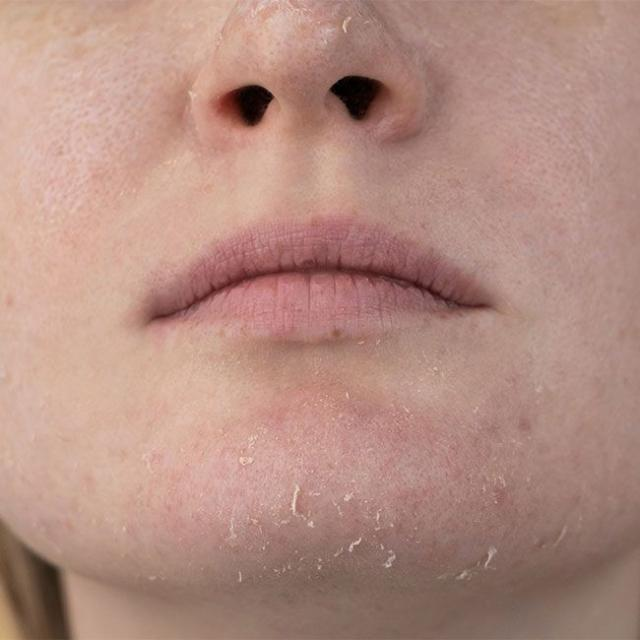Dry-Skin: (6, 0, 640, 232), (128, 392, 582, 604)
